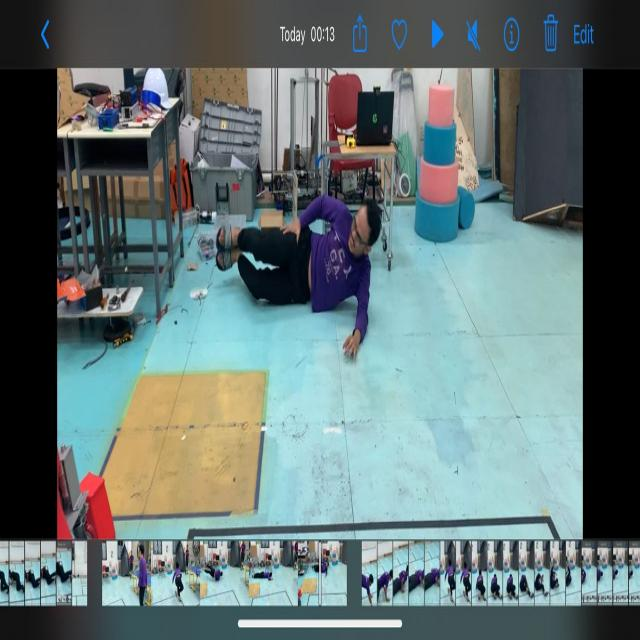Fall-Detected: (209, 178, 380, 353)
